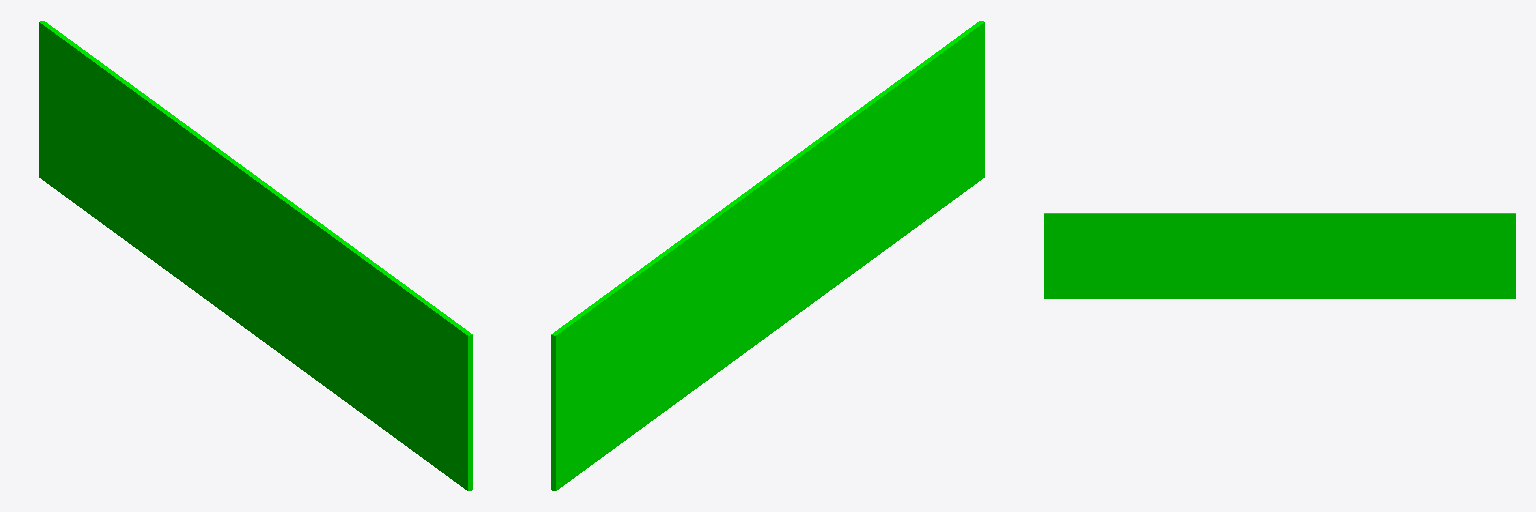
robot.urdf — wall:
<?xml version="1.0" ?>
<!-- =================================================================================== -->
<!-- |    This document was autogenerated by xacro from urdf/box.xacro                 | -->
<!-- |    EDITING THIS FILE BY HAND IS NOT RECOMMENDED                                 | -->
<!-- =================================================================================== -->
<robot xmlns:xacro="http://www.ros.org/wiki/xacro" name="wall">
  <link name="box">
    <visual>
      <geometry>
        <box size="6 30 0.2"/>
      </geometry>
      <origin rpy="0 1.5707 0" xyz="0 0 0"/>
      <material name="green">
        <color rgba="0 1 0 1"/>
      </material>
    </visual>
    <collision>
      <geometry>
        <box size="6 30  0.2"/>
      </geometry>
      <origin rpy="0 1.5707 0" xyz="0 0 0"/>
    </collision>
    <inertial>
      <mass value="20"/>
      <inertia ixx="0.0" ixy="0" ixz="0" iyy="0.0" iyz="0" izz="0.0"/>
    </inertial>
  </link>
</robot>

--- Facts derived from the render (not from the file) ---
The picture shows the robot from 3 angles, left to right: view 1: azimuth 30°, elevation 25°; view 2: azimuth 150°, elevation 25°; view 3: azimuth 270°, elevation 25°; orthographic projection.
Robot: wall — 1 links, 0 joints (none); root link box; default pose: all joints at 0.
Links seen in each view (by area): view 1: box; view 2: box; view 3: box.
Boxes of the visible links, box(x1,y1,x2,y2) form: box: box(39, 21, 472, 490); box: box(551, 21, 984, 490); box: box(1044, 213, 1515, 298).
Bounding box of the posed robot: 0.2006 × 30 × 6 m (x, y, z).
Geometry: primitives only (box / cylinder / sphere), no mesh files.